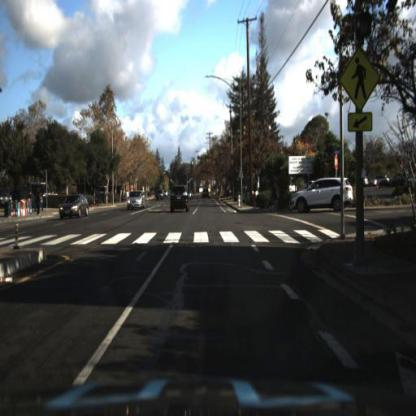car: (291, 178, 355, 209), (165, 176, 199, 223), (166, 184, 191, 218), (60, 193, 91, 220), (127, 190, 146, 213), (201, 186, 213, 202), (156, 191, 164, 204)
pedestrian: (272, 175, 284, 217), (273, 180, 281, 214)
